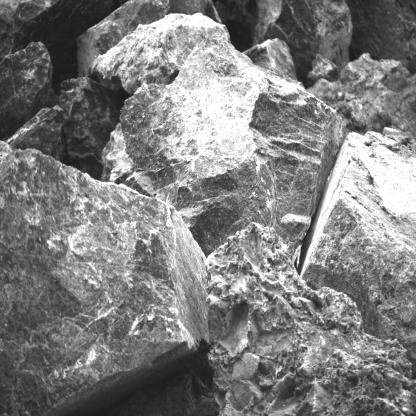stone: (0, 138, 211, 416), (100, 33, 346, 264), (209, 237, 416, 416), (304, 129, 416, 360), (0, 41, 53, 141), (5, 105, 68, 161), (242, 38, 298, 80)
